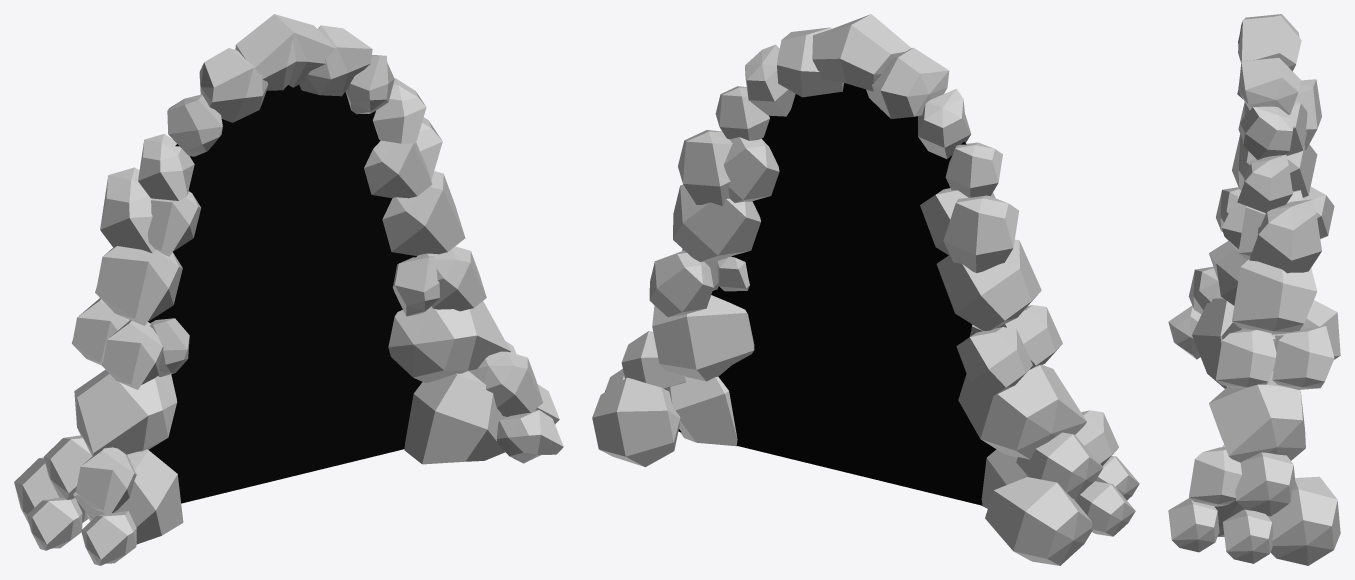
Rendered from SpawnPoint.fbx.
3 views of the same model, side by side, from view 1: azimuth 30°, elevation 25°; view 2: azimuth 150°, elevation 25°; view 3: azimuth 270°, elevation 25° (orthographic). The views are drawn at different scales.
Visible parts, largest first — view 1: Rocks, Hole; view 2: Rocks, Hole; view 3: Rocks.
Boxes of the visible parts, x1,y1,x2,y2 form: Rocks: [14, 14, 563, 565]; Hole: [148, 84, 422, 503]; Rocks: [592, 14, 1139, 565]; Hole: [678, 83, 996, 505]; Rocks: [1168, 14, 1340, 565].
Bounding box in the file's own units: 3.82 × 3.41 × 1.18.
Materials: 2 (1 with a texture image).
